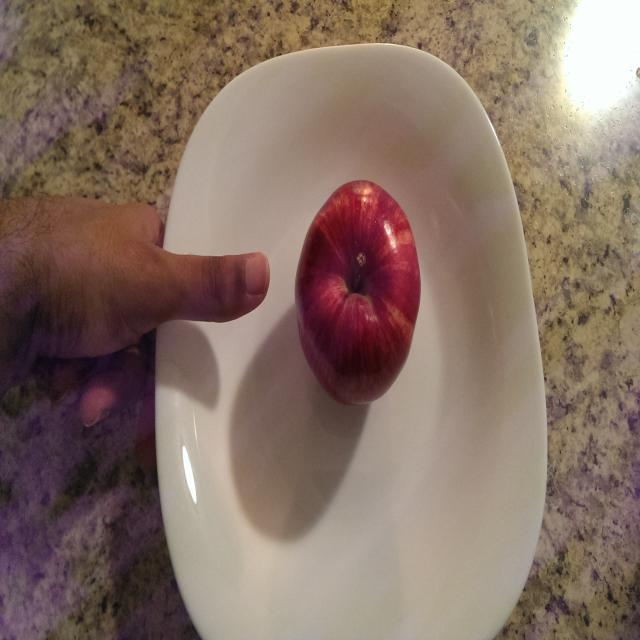Apple: (288, 169, 428, 415)
Finger: (188, 245, 275, 326)
